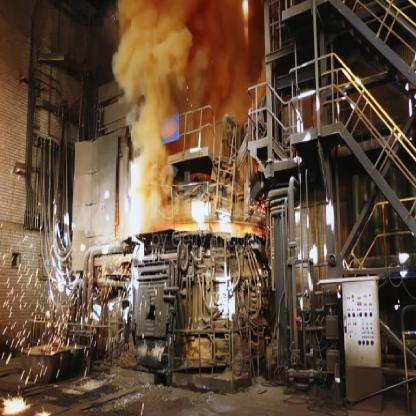smoke: (108, 0, 256, 229)
